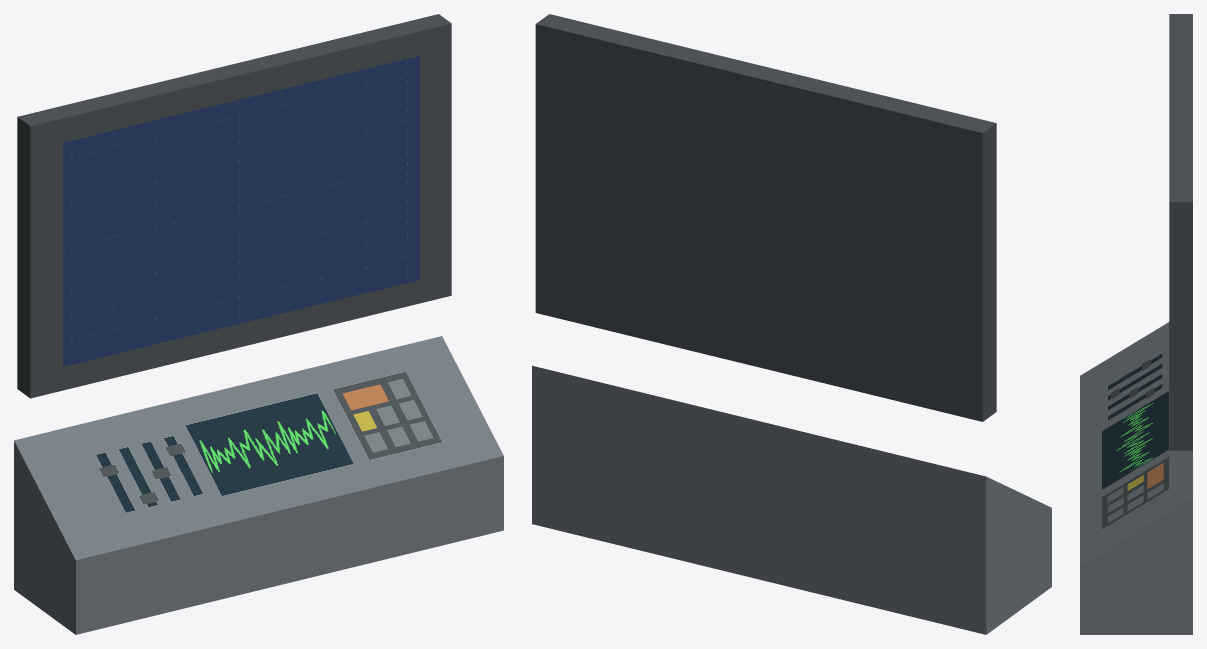
3 views of the same model, side by side, from view 1: azimuth 30°, elevation 25°; view 2: azimuth 150°, elevation 25°; view 3: azimuth 270°, elevation 25° (orthographic). The views are drawn at different scales.
Visible parts, largest first — view 1: PC01; view 2: PC01; view 3: PC01.
Boxes of the visible parts, left/top/right/bottom form: PC01: left=14, top=14, right=503, bottom=634; PC01: left=532, top=14, right=1051, bottom=634; PC01: left=1080, top=14, right=1192, bottom=634.
Size of the model in its own units: 12 by 12.65 by 3.
